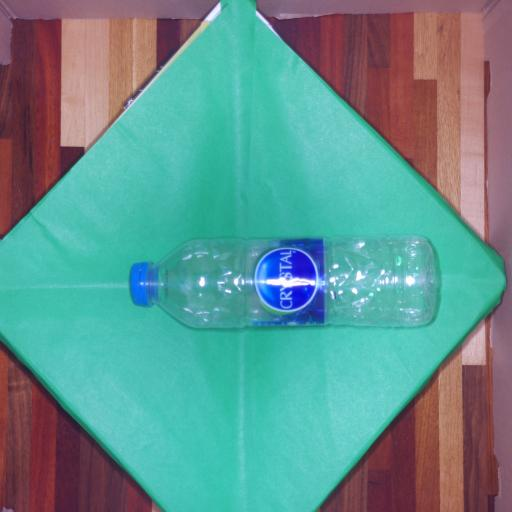bottle: (106, 224, 452, 337)
